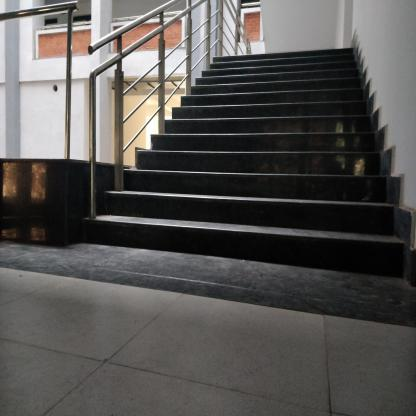stairs: (153, 134, 377, 286)
